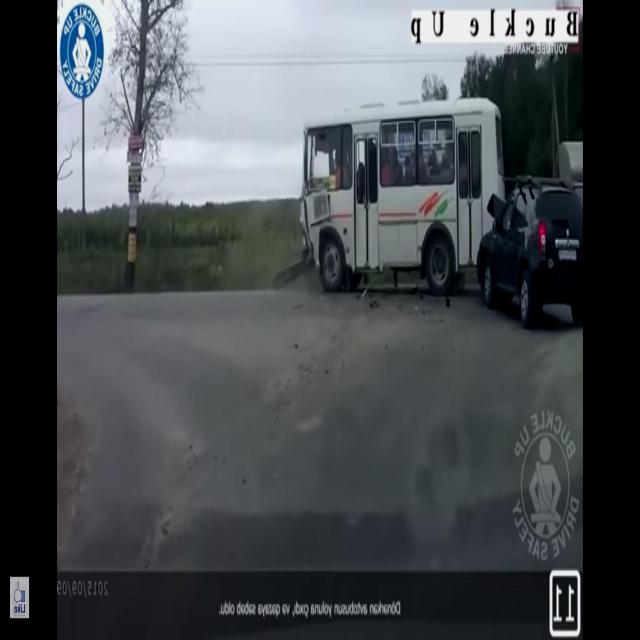accident: (291, 92, 583, 332)
